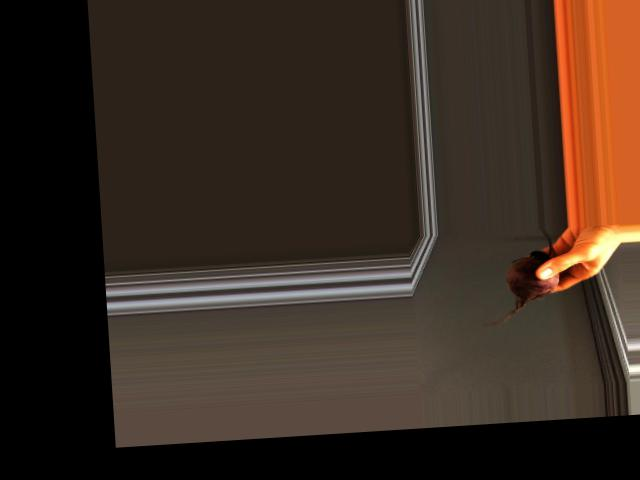beet: (476, 226, 561, 326)
